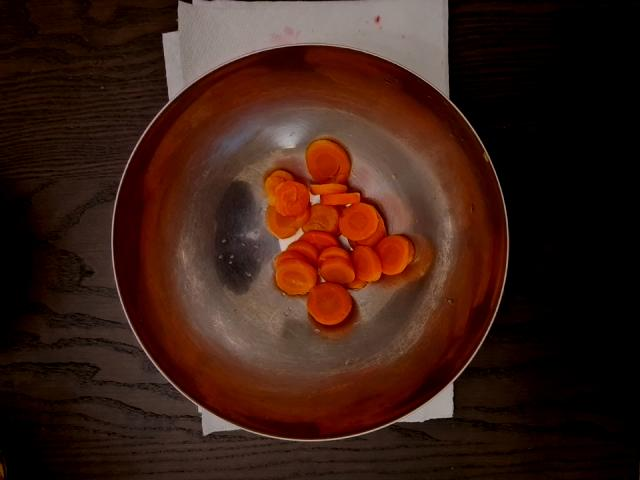kichen waste: (264, 141, 416, 326)
